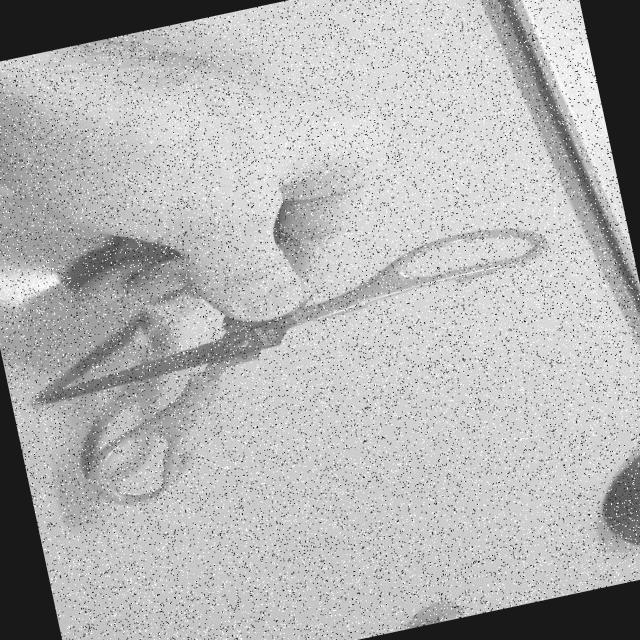scissors: (0, 171, 597, 529)
